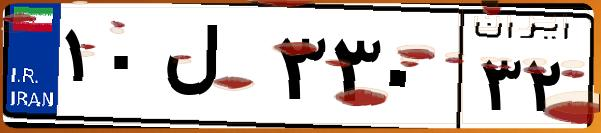0: (385, 28, 445, 110), (110, 28, 158, 98)
1: (57, 26, 110, 100)
2: (525, 38, 570, 115)
3: (270, 28, 330, 110), (330, 28, 385, 110), (475, 38, 525, 113)
ل: (158, 20, 270, 120)
